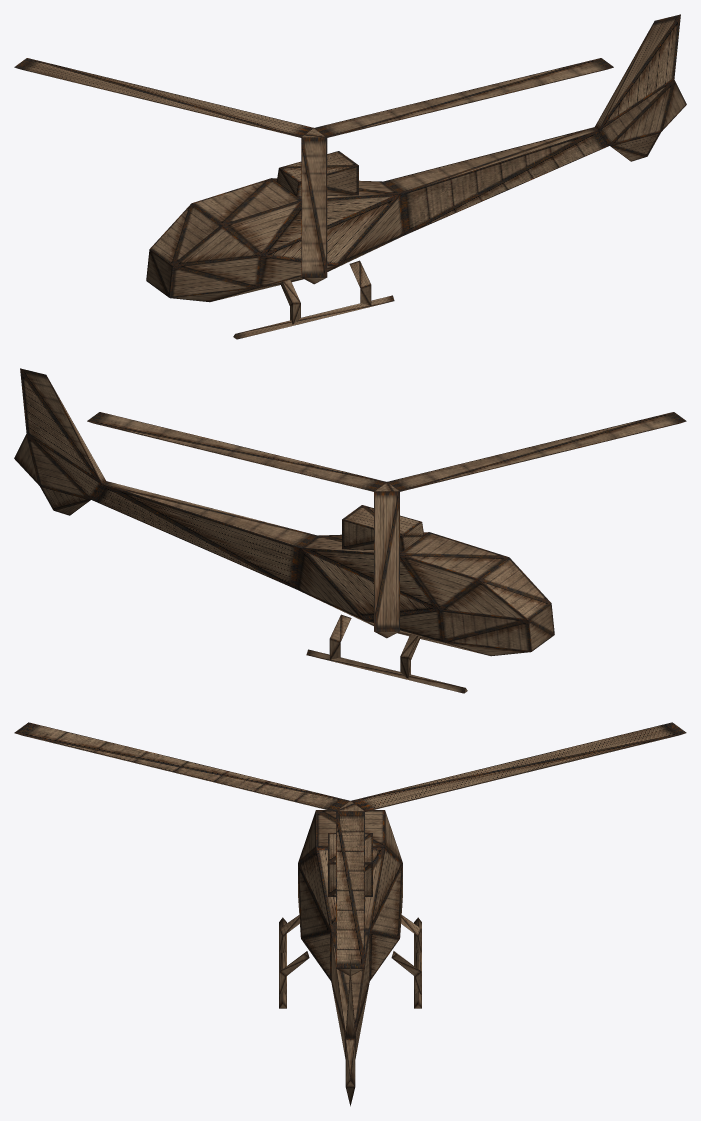
File: textured_helicopter.dae
3 renders of one model, top to bottom at view 1: azimuth 30°, elevation 25°; view 2: azimuth 150°, elevation 25°; view 3: azimuth 270°, elevation 25°, orthographic. The views are drawn at different scales.
Parts seen in each view (by area): view 1: gazelle-airframe, gazelle-rotor; view 2: gazelle-airframe, gazelle-rotor; view 3: gazelle-airframe, gazelle-rotor.
Part boxes in pixels (x1,y1,x2,y2): gazelle-airframe: [146, 14, 686, 339]; gazelle-rotor: [14, 58, 613, 284]; gazelle-airframe: [14, 368, 554, 693]; gazelle-rotor: [87, 412, 686, 638]; gazelle-airframe: [279, 810, 421, 1106]; gazelle-rotor: [14, 722, 686, 975].
Size of the model in its own units: 5.77 by 5.66 by 1.93.
Materials: 2 (2 with a texture image).
